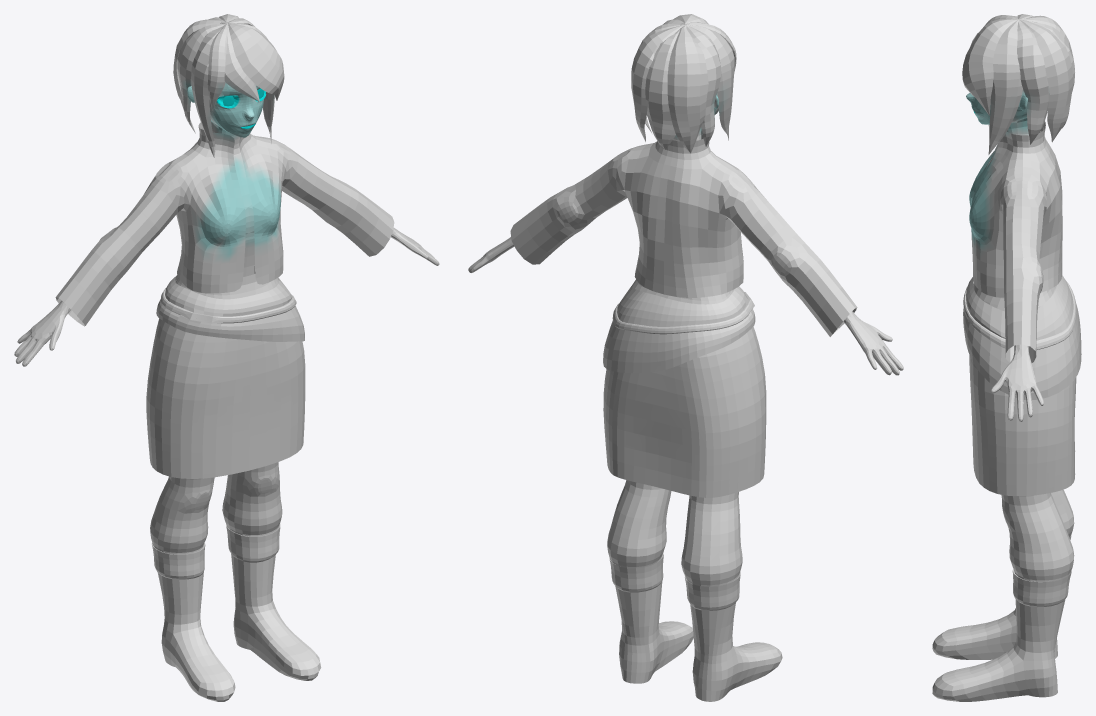
The model's file is MouseMixamo2.fbx.
3 views of the same model, side by side, from view 1: azimuth 30°, elevation 25°; view 2: azimuth 150°, elevation 25°; view 3: azimuth 270°, elevation 25° (orthographic). The views are drawn at different scales.
Parts seen in each view (by area): view 1: model.012; view 2: model.012; view 3: model.012.
Part boxes in pixels (x1,y1,x2,y2): model.012: (14, 14, 439, 701); model.012: (468, 14, 903, 701); model.012: (932, 14, 1081, 701).
Bounding box in the file's own units: 103 × 150 × 30.8.
